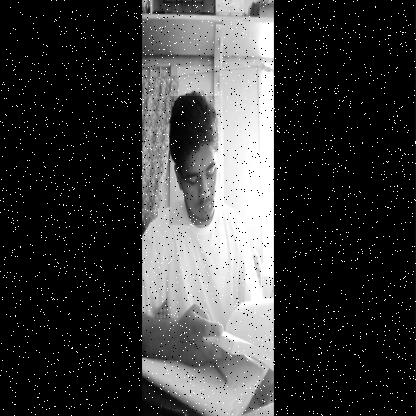Distracted: (169, 96, 221, 225)
